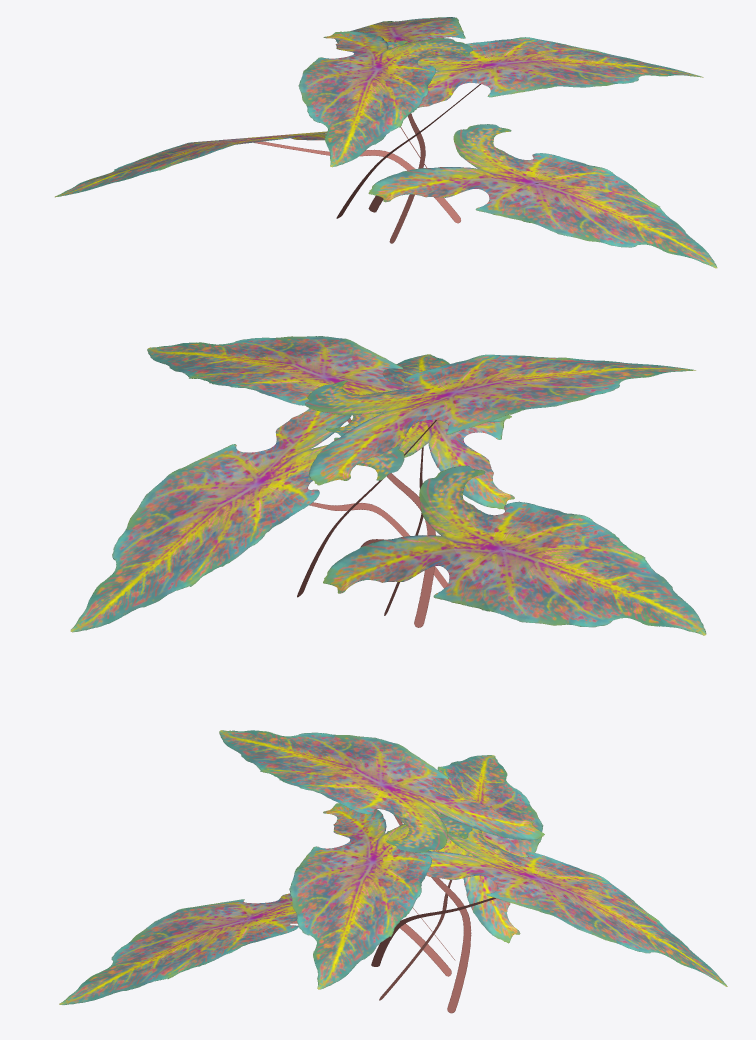
The model's file is Sickle Wort 1.fbx.
3 views of the same model, one above another, from view 1: azimuth 30°, elevation 25°; view 2: azimuth 150°, elevation 25°; view 3: azimuth 270°, elevation 25° (orthographic). The views are drawn at different scales.
Parts seen in each view (by area): view 1: Sickle Wort 1; view 2: Sickle Wort 1; view 3: Sickle Wort 1.
Boxes of the visible parts, bbox=[...] form: Sickle Wort 1: bbox=[55, 17, 717, 268]; Sickle Wort 1: bbox=[70, 336, 706, 635]; Sickle Wort 1: bbox=[59, 730, 727, 1013].
Bounding box in the file's own units: 228 × 69.84 × 237.
